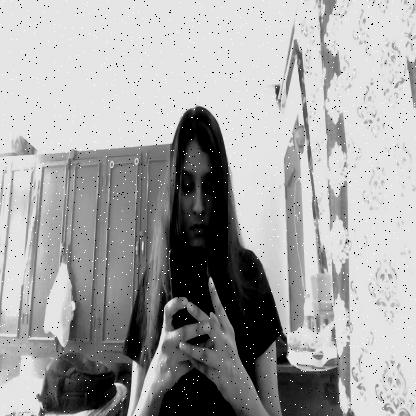Normal: (170, 106, 228, 267)
